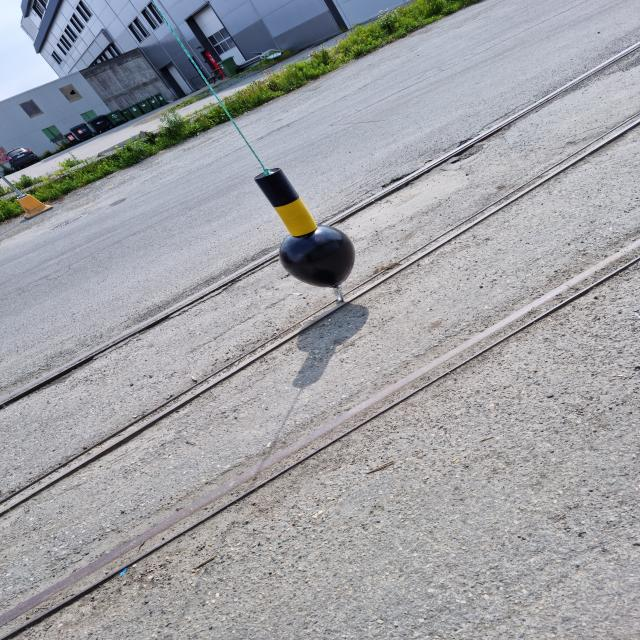east: (254, 169, 357, 288)
